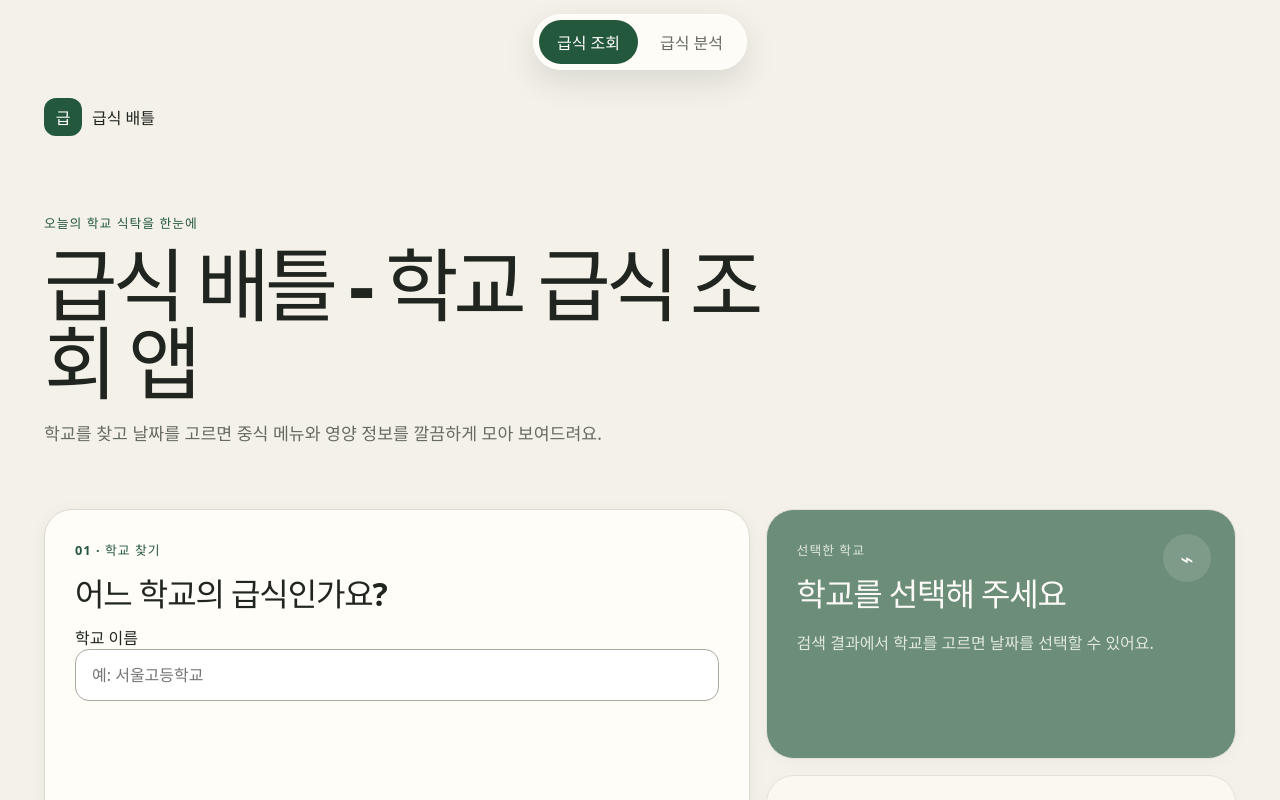
Test: school lunch flow › distinguishes an empty school result
Step 1. Type "없는학교" into the field labelled "학교 이름" → (397, 675), box [75,649,719,701]
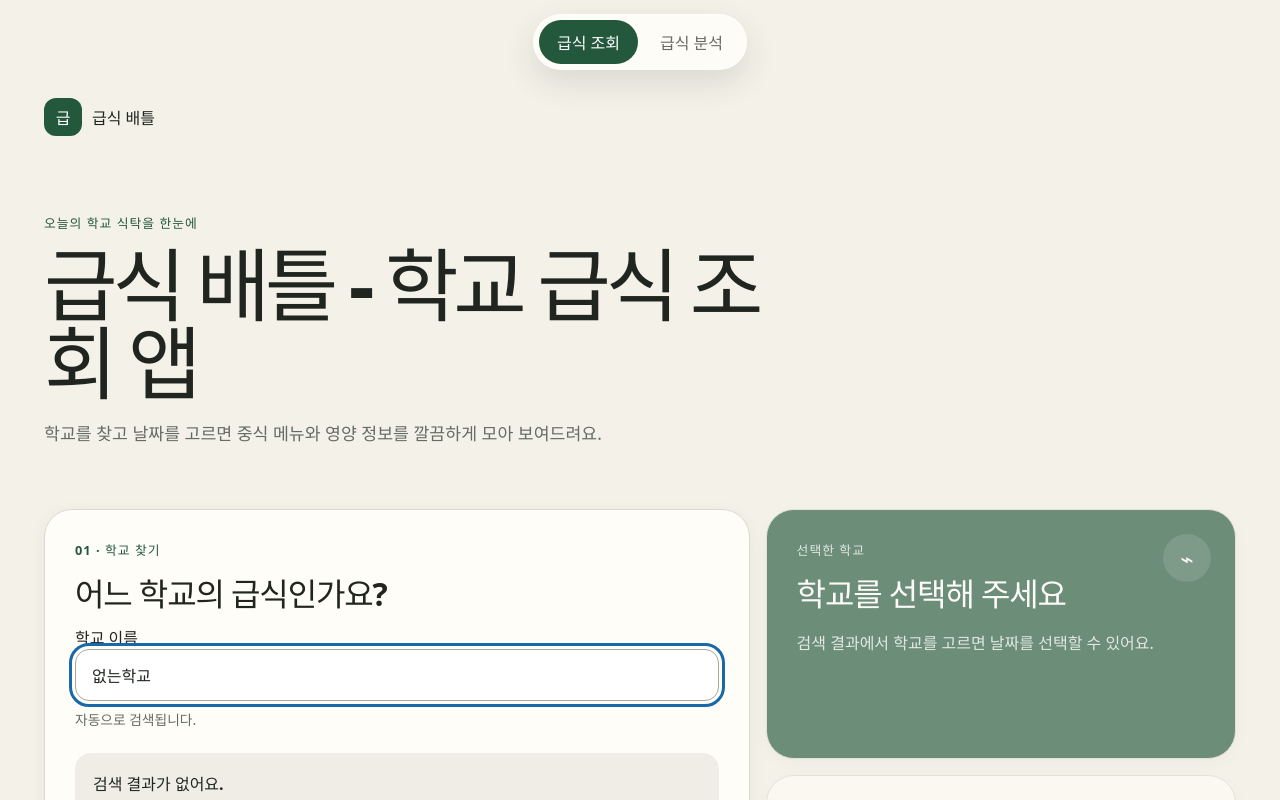
Expected: the text "검색 결과가 없어요." is shown, [93,773,224,795]
